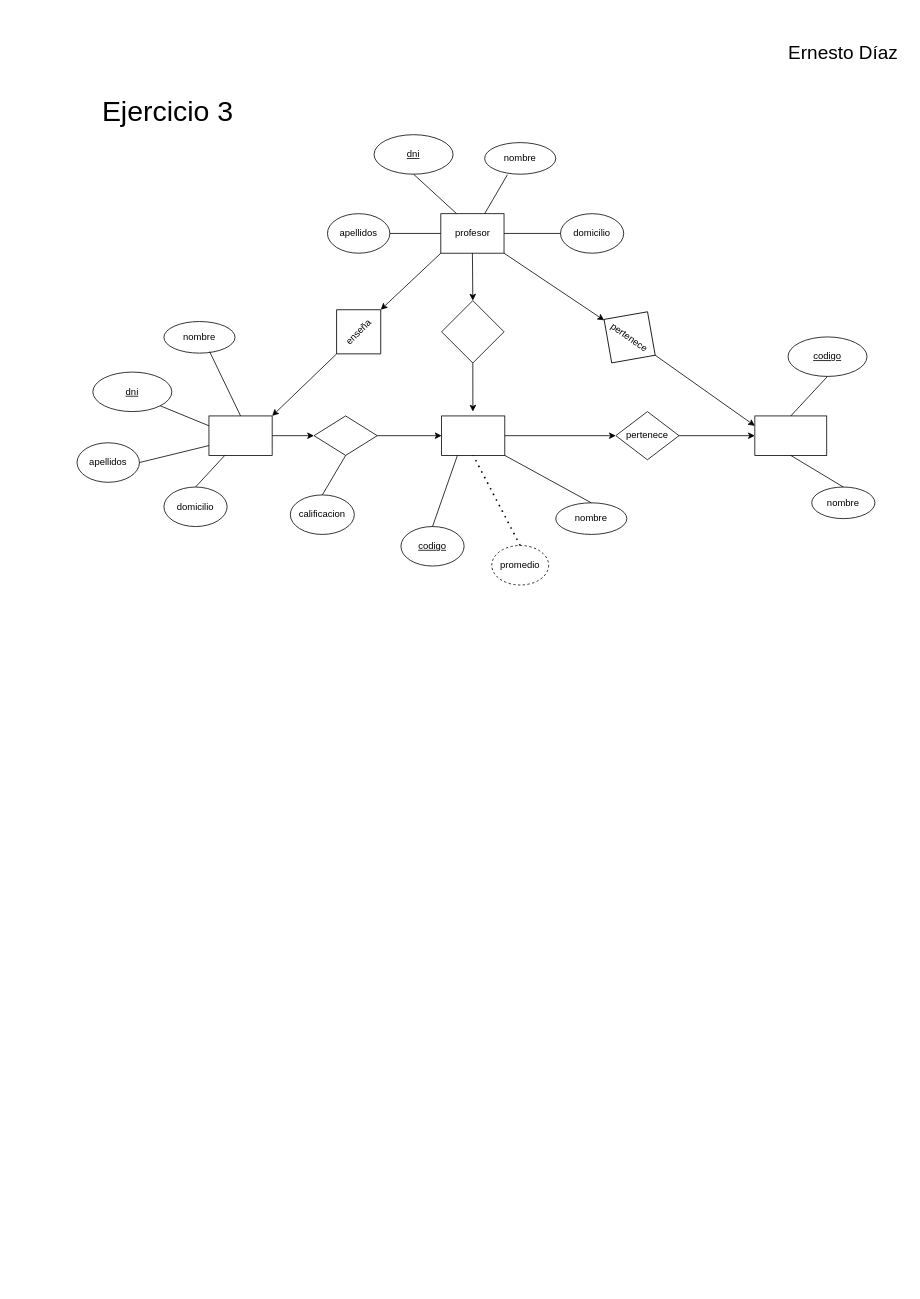
This 920x1299 diagram has some shape labels left out. The centre of each missing label's shape, as x and y in pixels:
"alumno" goes at point 240,435.
"asignatura" goes at point 473,435.
"Departamento" goes at point 790,435.
"estudia" goes at point 345,435.
"imparte" goes at point 472,331.
